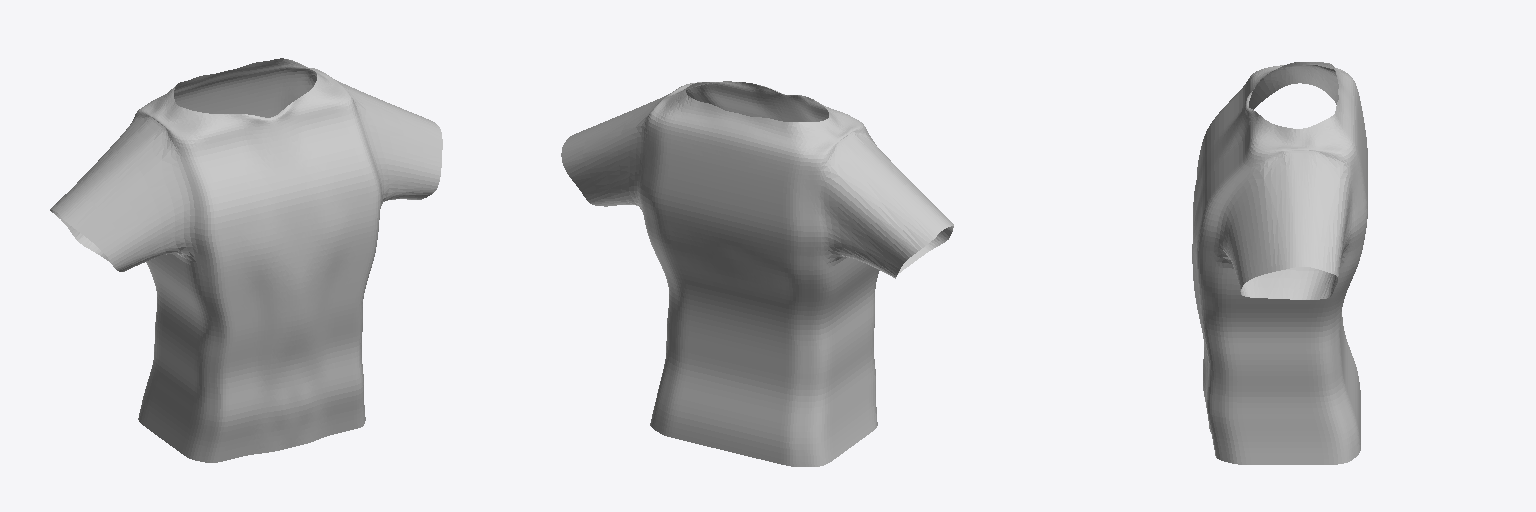
Rendered from shir.obj.
3 renders of one model, left to right at view 1: azimuth 30°, elevation 25°; view 2: azimuth 150°, elevation 25°; view 3: azimuth 270°, elevation 25°, orthographic.
Parts seen in each view (by area): view 1: Cube_Cube.002; view 2: Cube_Cube.002; view 3: Cube_Cube.002.
Part boxes in pixels (x1,y1,x2,y2): Cube_Cube.002: (50, 58, 442, 462); Cube_Cube.002: (561, 81, 953, 466); Cube_Cube.002: (1192, 62, 1367, 464).
Size of the model in its own units: 0.8695 by 0.7312 by 0.3507.